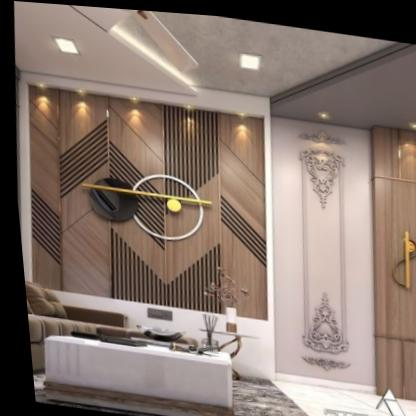Carpet: (225, 375, 303, 416)
Gypsum Board: (9, 1, 416, 120)
Sofa: (20, 288, 131, 395)
Wall Panel: (13, 82, 276, 320), (350, 121, 416, 399)
